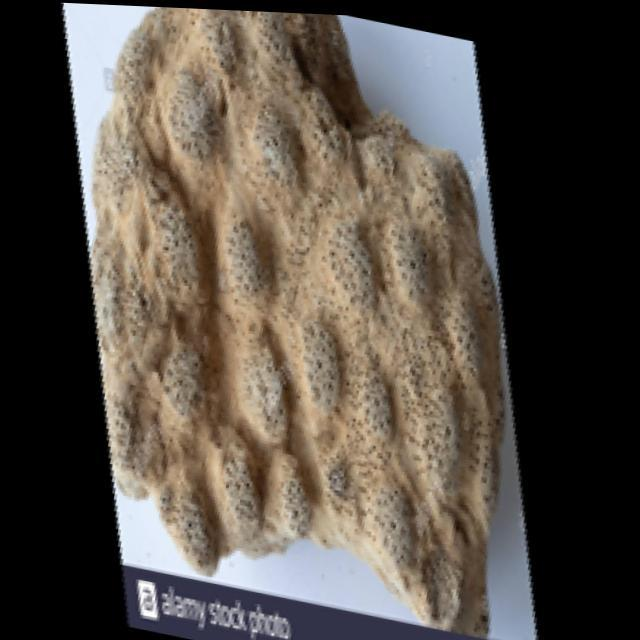Dead Coral: (74, 257, 549, 614), (100, 4, 438, 292)
